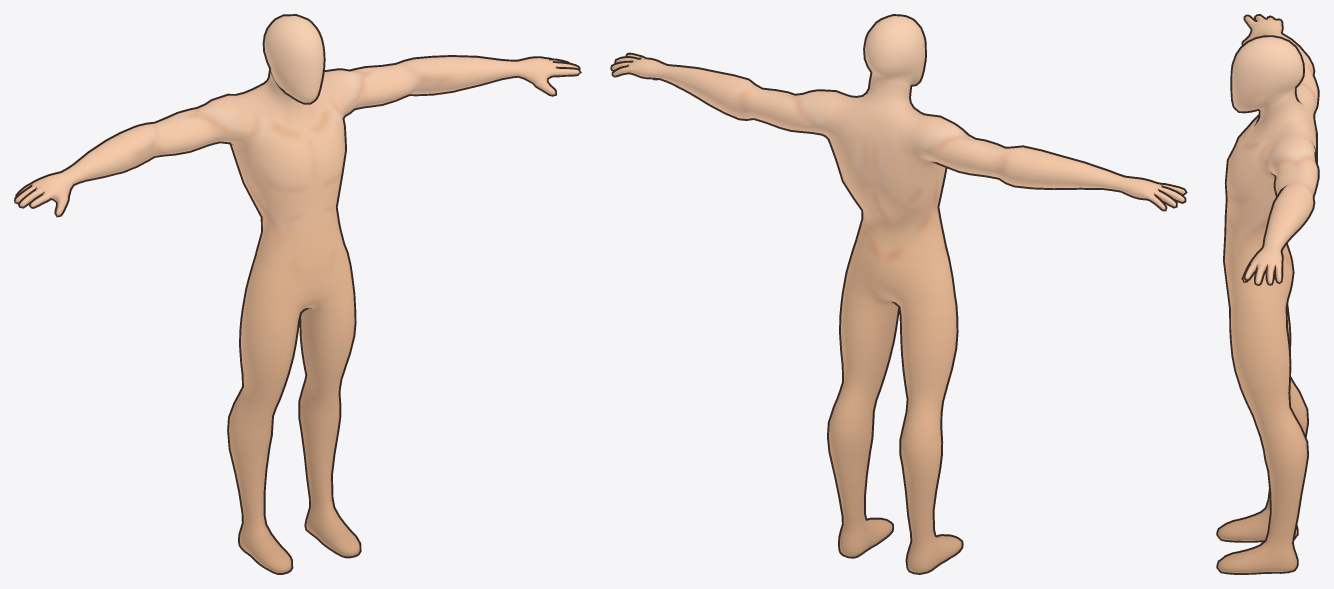
The model's file is human_body_base_cartoon.glb.
The picture shows the model from 3 angles, left to right: view 1: azimuth 30°, elevation 25°; view 2: azimuth 150°, elevation 25°; view 3: azimuth 270°, elevation 25°; orthographic projection. The views are drawn at different scales.
Parts seen in each view (by area): view 1: Body_OL_0; view 2: Body_OL_0; view 3: Body_OL_0.
Part boxes in pixels (x1,y1,x2,y2): Body_OL_0: (14, 14, 581, 574); Body_OL_0: (610, 14, 1187, 574); Body_OL_0: (1216, 14, 1319, 574).
Size of the model in its own units: 1.67 by 1.51 by 0.2735.
2 materials, 1 textured.
